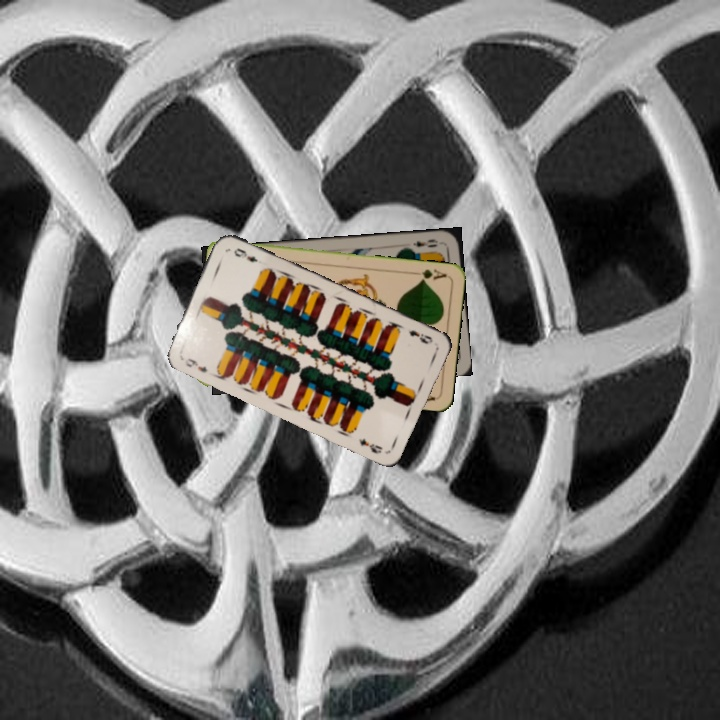E9: (405, 326, 436, 346), (181, 354, 210, 375)
EO: (409, 235, 441, 250)
GA: (409, 265, 449, 284)
